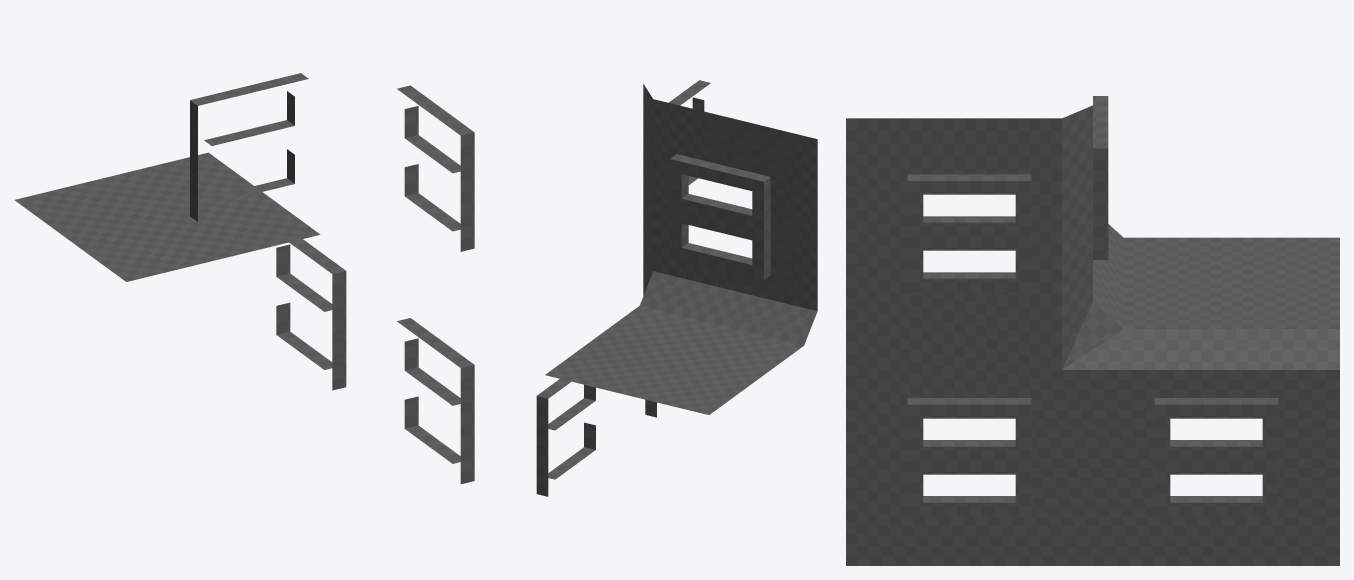
The picture shows the model from 3 angles, left to right: view 1: azimuth 30°, elevation 25°; view 2: azimuth 150°, elevation 25°; view 3: azimuth 270°, elevation 25°; orthographic projection. The views are drawn at different scales.
Visible parts, largest first — view 1: CubeUpBackRight4V4; view 2: CubeUpBackRight4V4; view 3: CubeUpBackRight4V4.
Boxes of the visible parts, x1,y1,x2,y2 form: CubeUpBackRight4V4: (14, 73, 474, 484); CubeUpBackRight4V4: (536, 80, 817, 496); CubeUpBackRight4V4: (846, 96, 1339, 565).
Bounding box in the file's own units: 2.12 × 4 × 4.
1 material, 1 textured.
